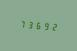nine: (42, 20, 49, 31)
seven: (18, 18, 25, 29)
six: (34, 19, 41, 31)
three: (26, 18, 33, 30)
two: (50, 21, 57, 32)
